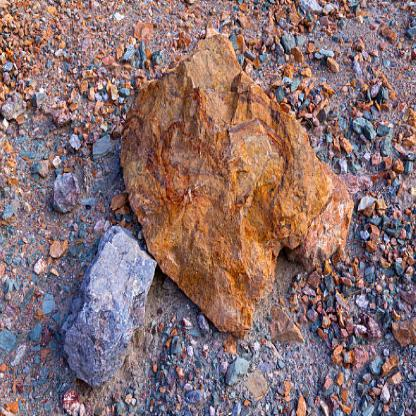Sedimentary_Limestone: (105, 22, 355, 343)
